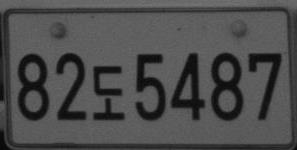2: (54, 51, 88, 121)
4: (170, 51, 206, 121)
5: (134, 53, 166, 122)
7: (247, 51, 282, 120)
8: (210, 51, 244, 121), (16, 52, 49, 120)
도: (93, 65, 125, 120)
